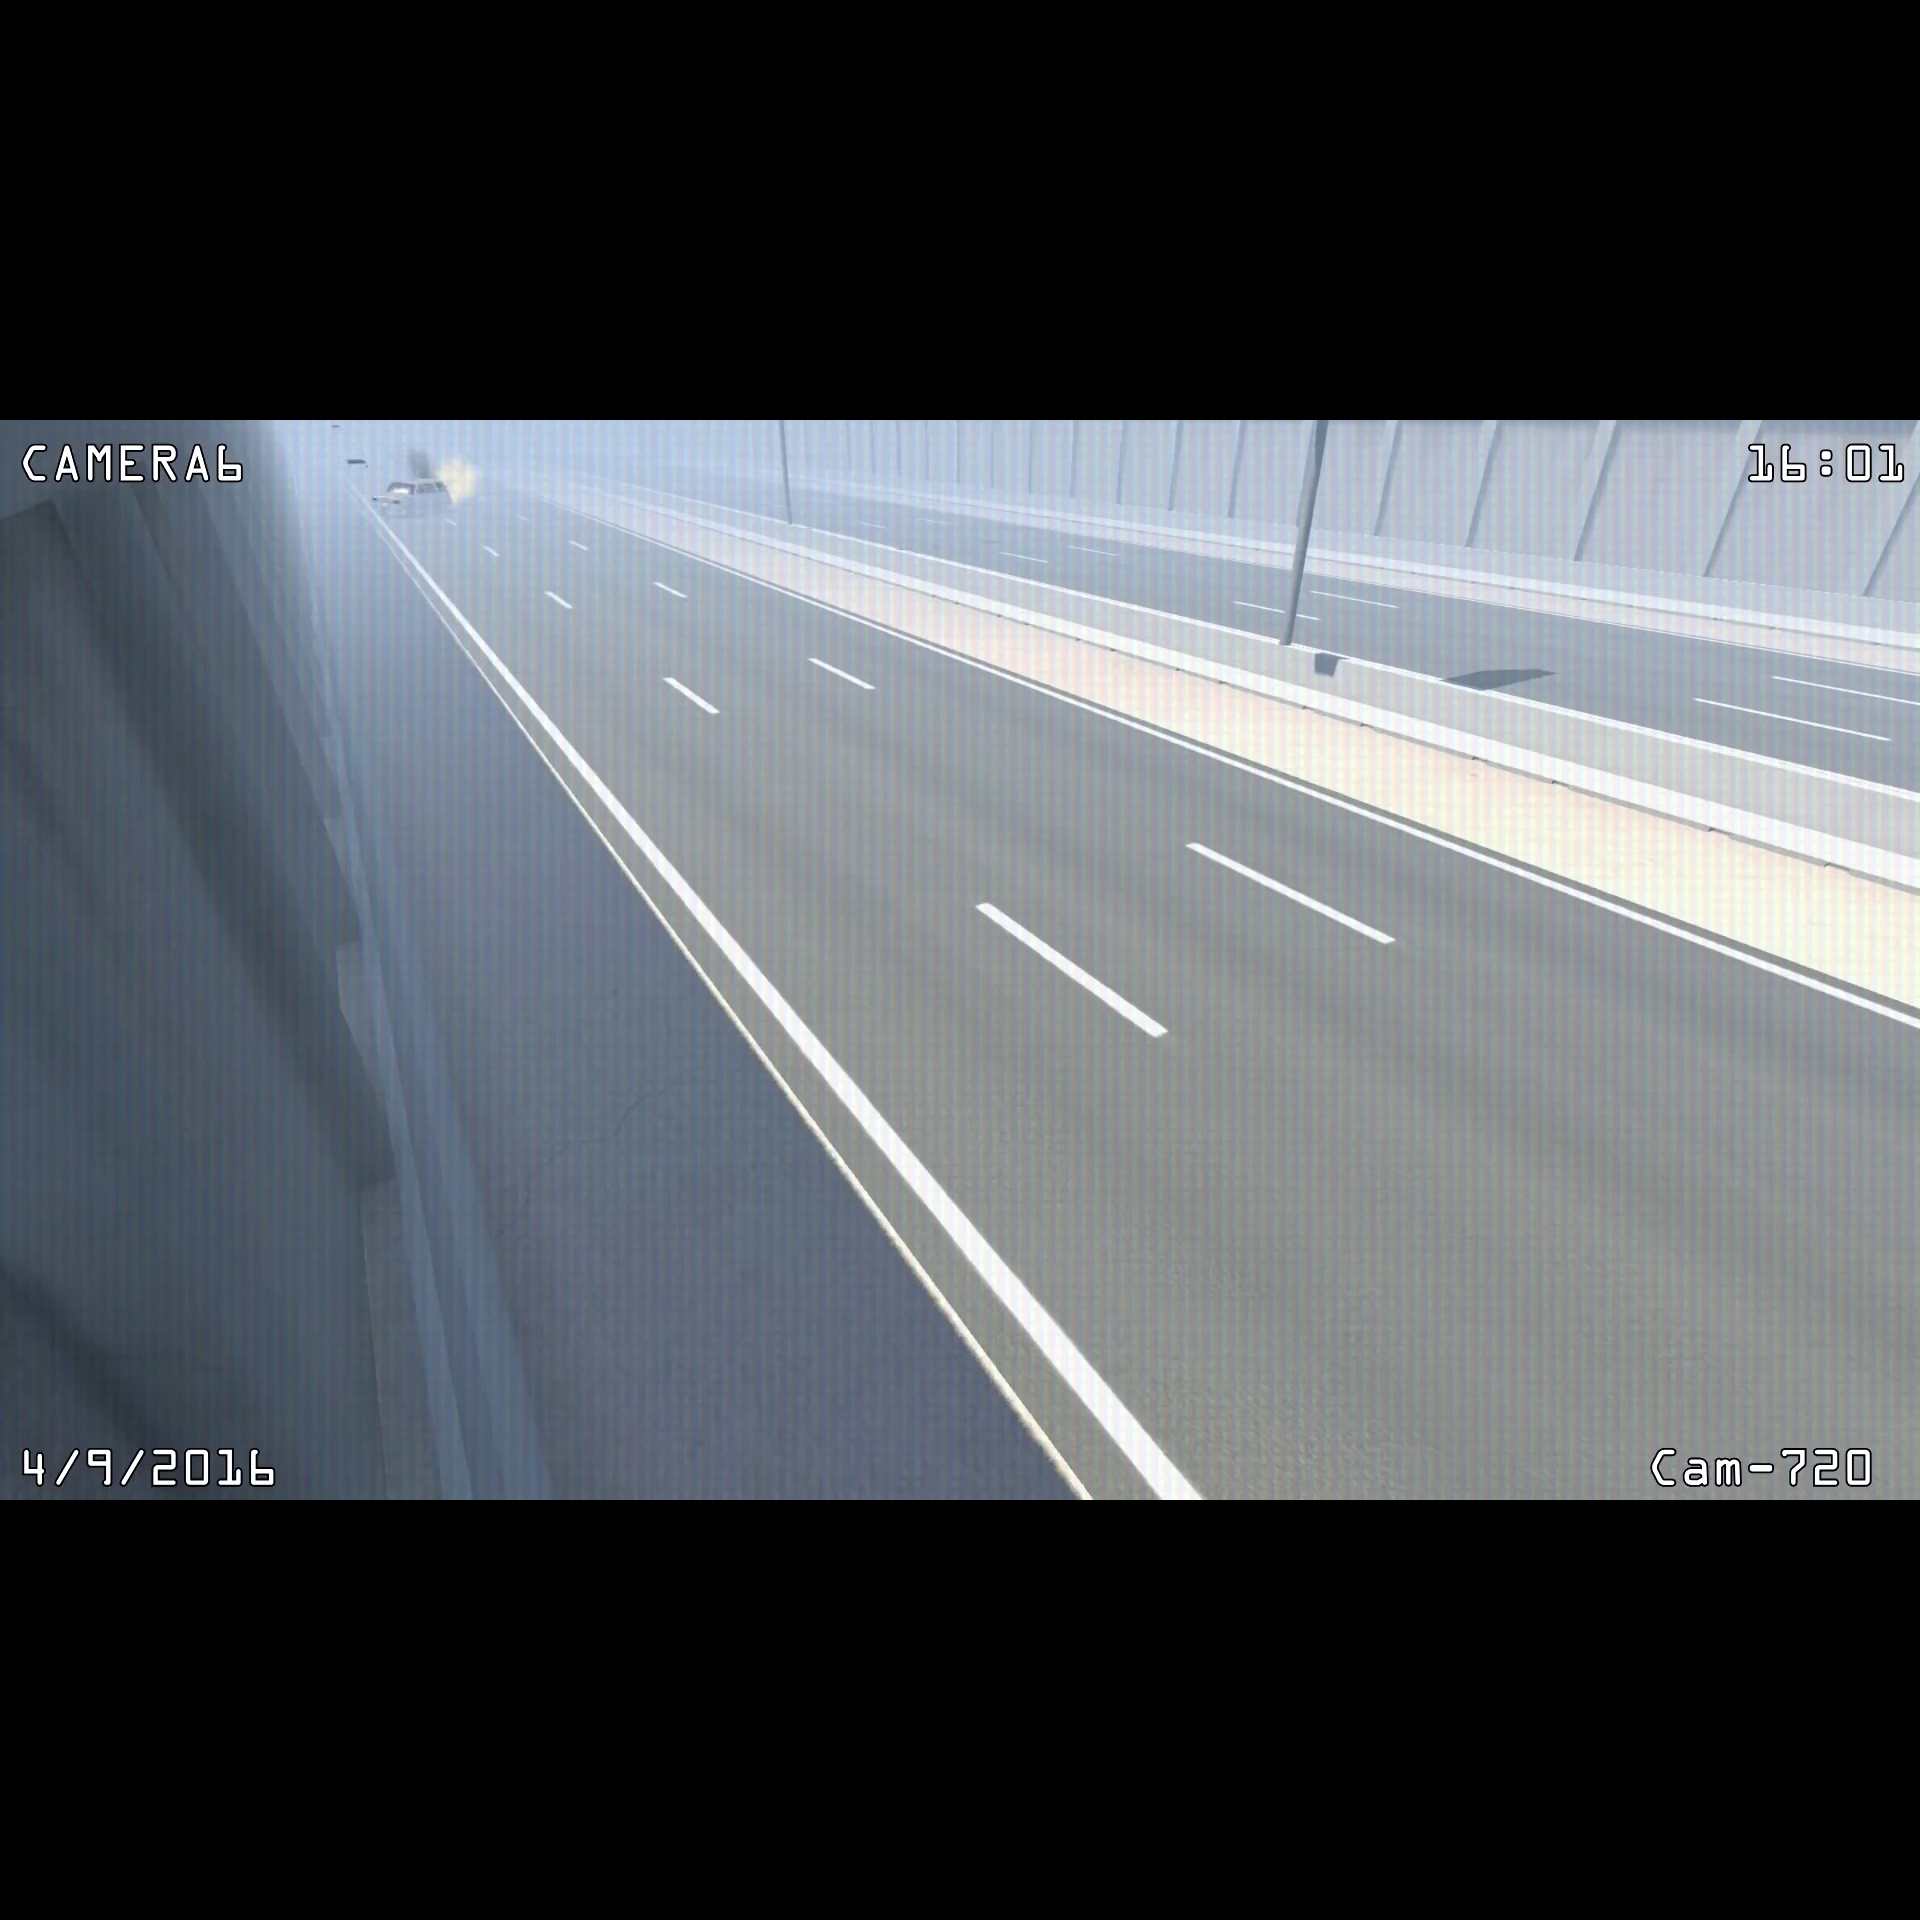vehicle: (362, 471, 459, 519)
